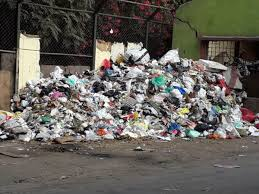garbage: (19, 65, 259, 144), (112, 42, 214, 137)
